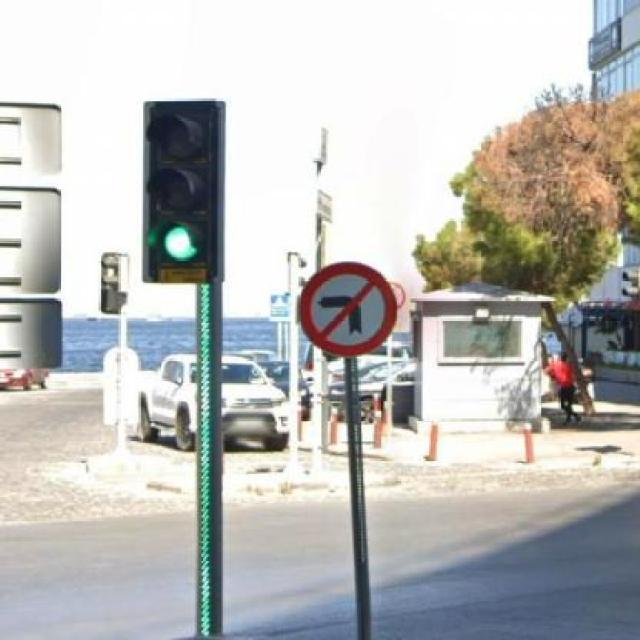yesil: (142, 99, 225, 283)
